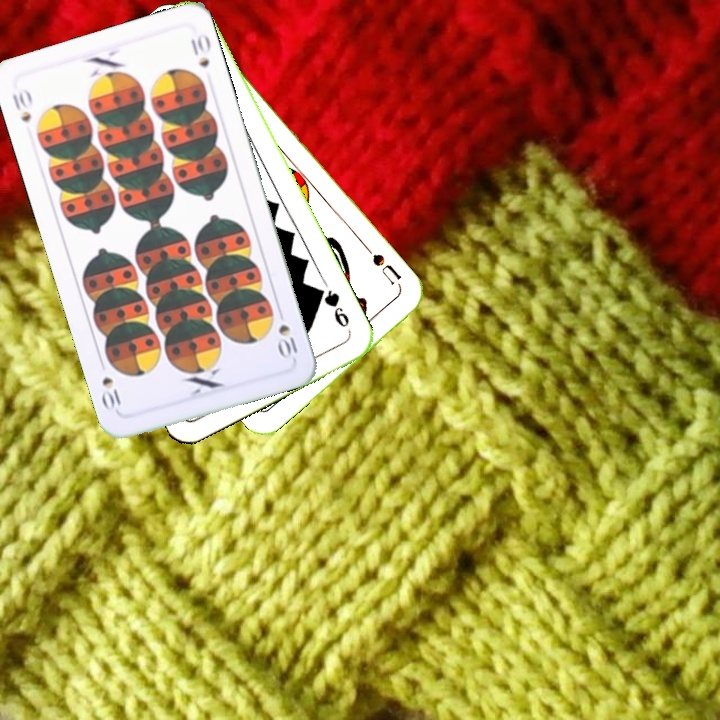G9: (313, 284, 352, 331)
S10: (273, 304, 300, 362), (8, 85, 34, 125)
SU: (368, 249, 405, 292)
